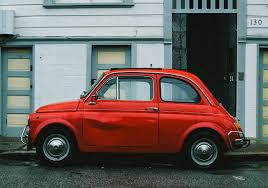doorouter-dent: (82, 101, 154, 147)
